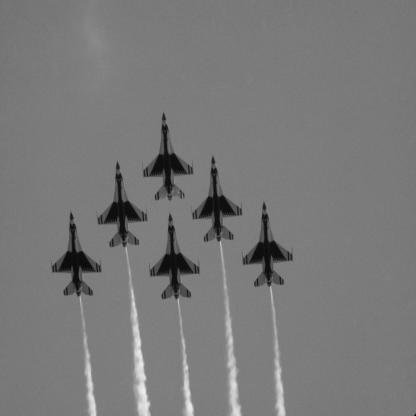F16: (143, 109, 195, 202), (97, 159, 149, 249), (192, 154, 244, 244), (150, 211, 201, 301), (243, 200, 294, 289), (52, 210, 103, 298)
